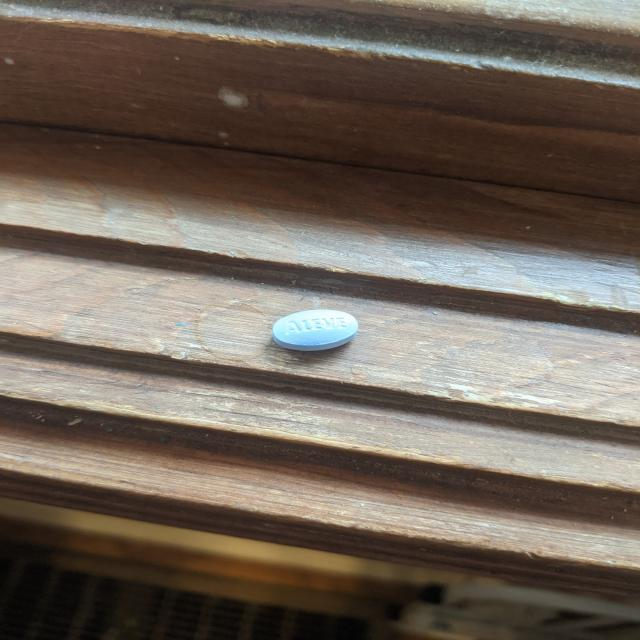non-organic waste: (272, 309, 359, 352)
